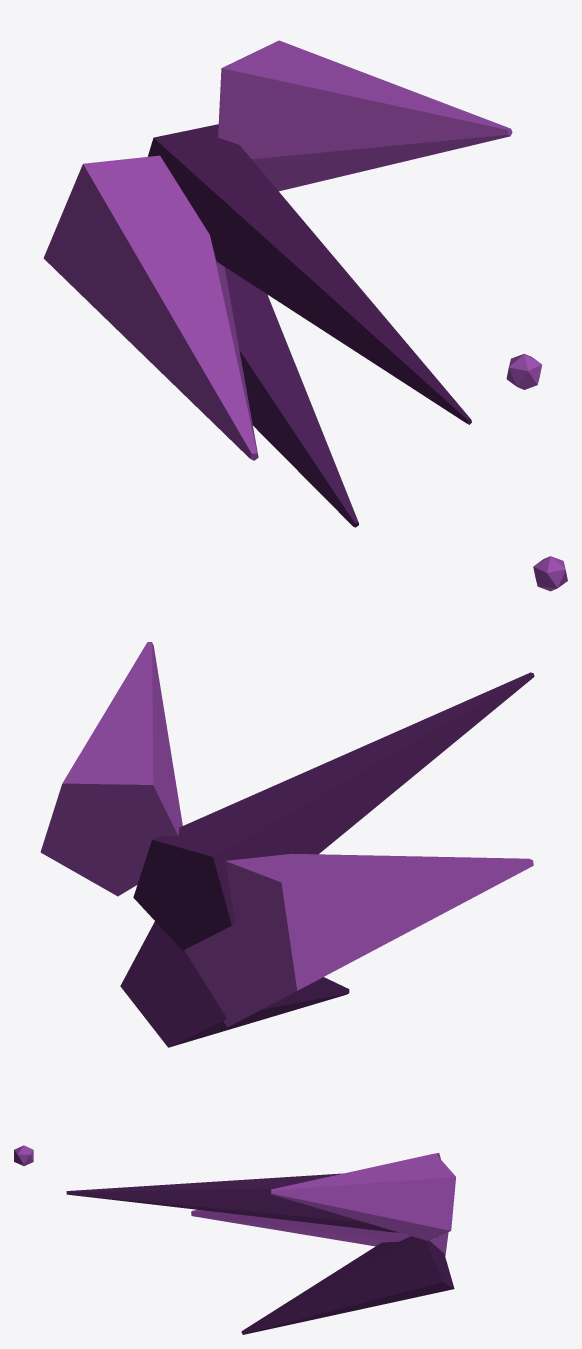
Rendered from WP_CurseFireball.fbx.
3 renders of one model, top to bottom at view 1: azimuth 30°, elevation 25°; view 2: azimuth 150°, elevation 25°; view 3: azimuth 270°, elevation 25°, orthographic. The views are drawn at different scales.
Visible parts, largest first — view 1: WP_CurseFireball; view 2: WP_CurseFireball; view 3: WP_CurseFireball.
Part boxes in pixels (left/top/right/bottom): WP_CurseFireball: left=43, top=40, right=542, bottom=527; WP_CurseFireball: left=40, top=556, right=567, bottom=1047; WP_CurseFireball: left=14, top=1145, right=455, bottom=1334.
Size of the model in its own units: 0.5393 by 1.19 by 0.5112.
